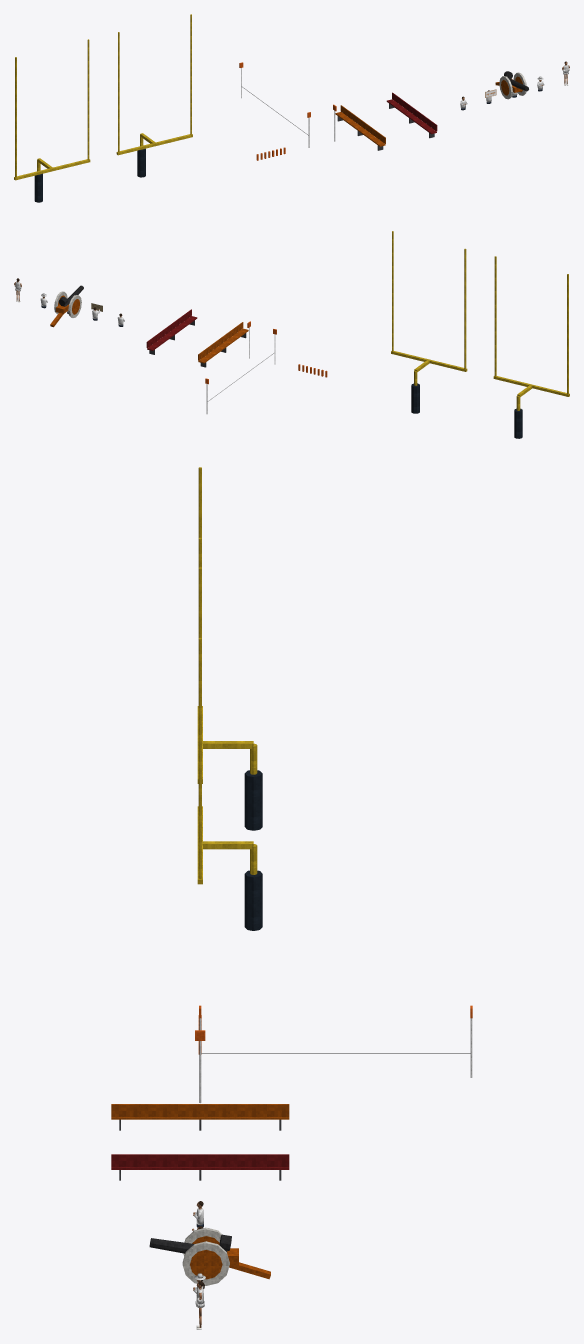
Rendered from props.glb.
3 views of the same model, one above another, from view 1: azimuth 30°, elevation 25°; view 2: azimuth 150°, elevation 25°; view 3: azimuth 270°, elevation 25° (orthographic). The views are drawn at different scales.
Visible parts, largest first — view 1: goalpost_home, goalpost_away, bench_texas, bench_ou, smokey; view 2: goalpost_home, goalpost_away, bench_texas, bench_ou, smokey; view 3: goalpost_away, smokey, bench_texas, bench_ou, goalpost_home.
Boxes of the visible parts, box(x1,y1,x2,y2) form: goalpost_home: box(14, 39, 90, 202); goalpost_away: box(116, 14, 192, 177); bench_texas: box(335, 105, 385, 150); bench_ou: box(386, 92, 437, 138); smokey: box(495, 71, 528, 99); goalpost_home: box(493, 256, 569, 438); goalpost_away: box(391, 231, 467, 413); bench_texas: box(198, 322, 248, 367); bench_ou: box(146, 309, 197, 354); smokey: box(50, 285, 83, 327); goalpost_away: box(197, 567, 262, 930); smokey: box(149, 1227, 270, 1285); bench_texas: box(111, 1104, 289, 1130); bench_ou: box(111, 1154, 289, 1180); goalpost_home: box(197, 467, 262, 830).
Bounding box in the file's own units: 43.23 × 12.06 × 12.18.
22 materials, 17 textured.
